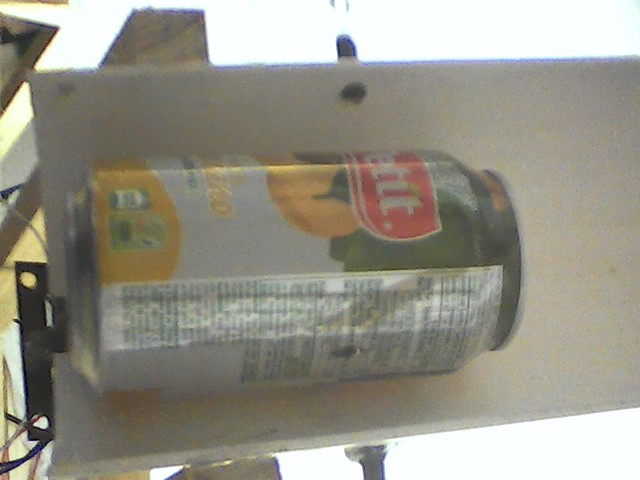lata: (56, 144, 534, 401)
